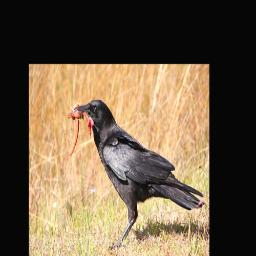Crow: (61, 95, 205, 249)
